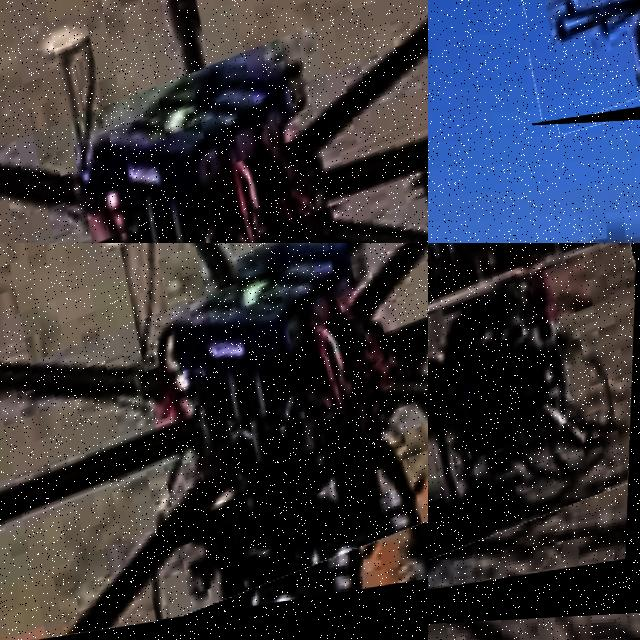drone: (0, 243, 428, 640), (0, 0, 428, 243), (428, 243, 640, 638), (524, 0, 640, 125)
